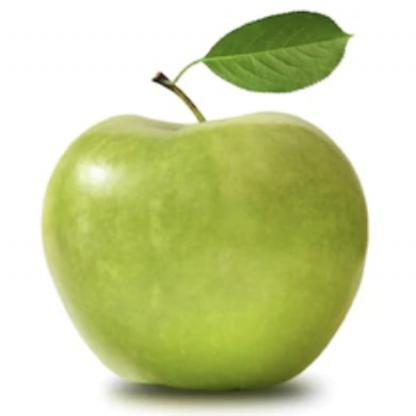apple: (31, 4, 374, 397)
